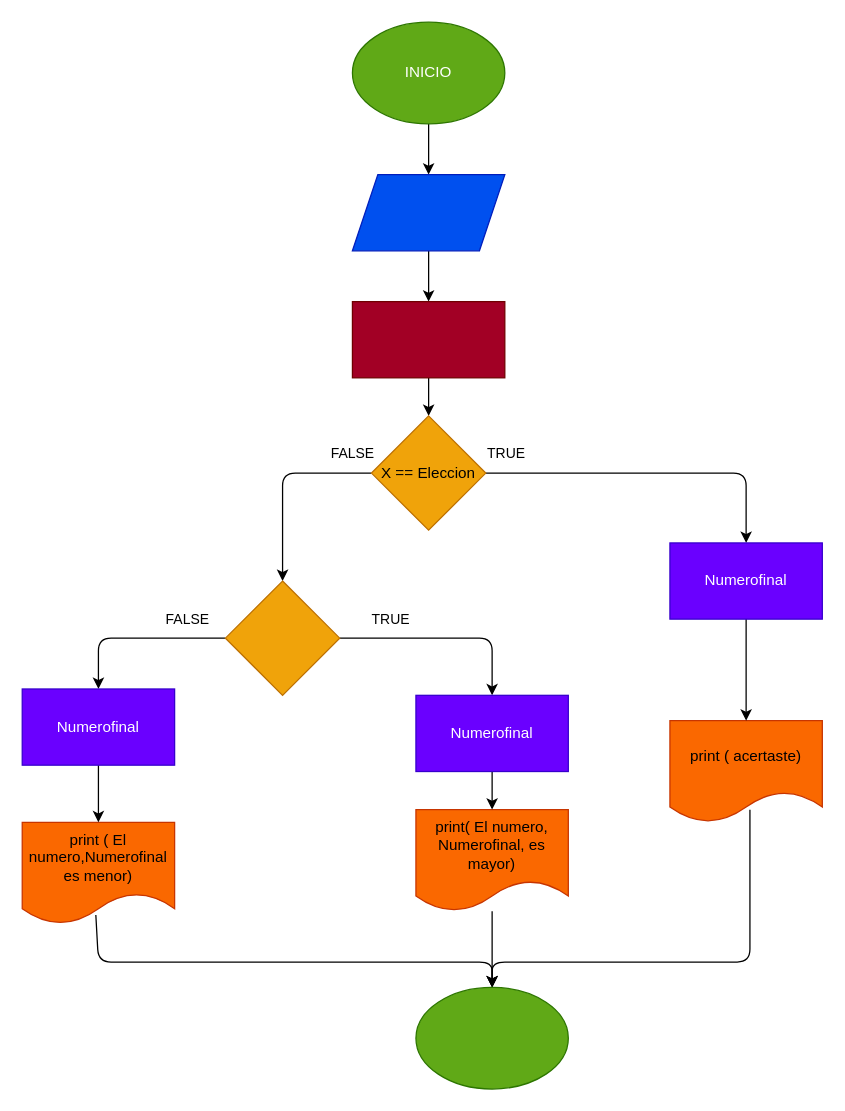
This 845x1111 diagram has some shape labels left out. Here are the shapes that lost their labels. From the top down, the centre of each, then its label:
[428,212]: Eleccion
[428,339]: X = randit(1-10)
[282,637]: X > Eleccion
[491,1037]: FIn
